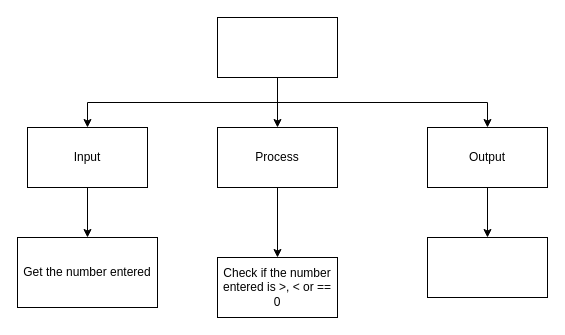
Image size: 565x335. Some labels were removed from this diagram. The shapes that lost their labels are listed below. From the top down, each one's centre as x and y in pixels, then its label:
[277,47]: The Cost of the Pizza
[487,267]: Show the compared result
